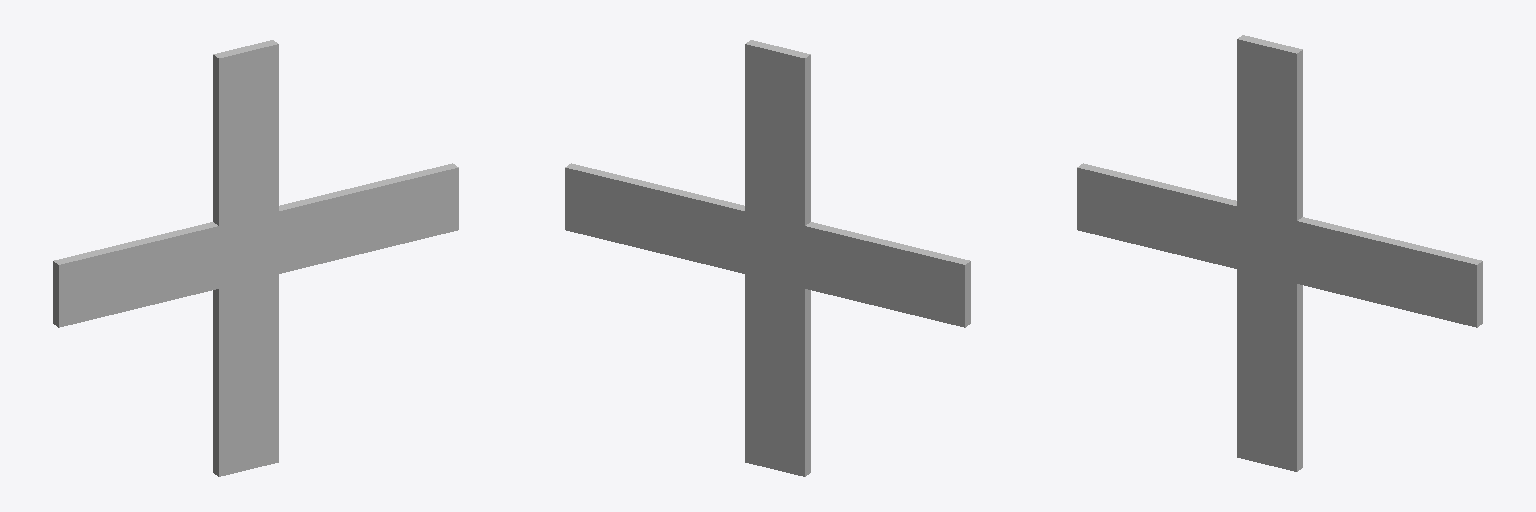
The model's file is cross.obj.
3 views of the same model, side by side, from view 1: azimuth 30°, elevation 25°; view 2: azimuth 150°, elevation 25°; view 3: azimuth 330°, elevation 25° (orthographic).
Parts seen in each view (by area): view 1: object 1; view 2: object 1; view 3: object 1.
Boxes of the visible parts, box(x1,y1,x2,y2) form: object 1: box(53, 40, 458, 476); object 1: box(565, 40, 970, 476); object 1: box(1077, 35, 1482, 471).
Bounding box in the file's own units: 4 × 4 × 0.1.